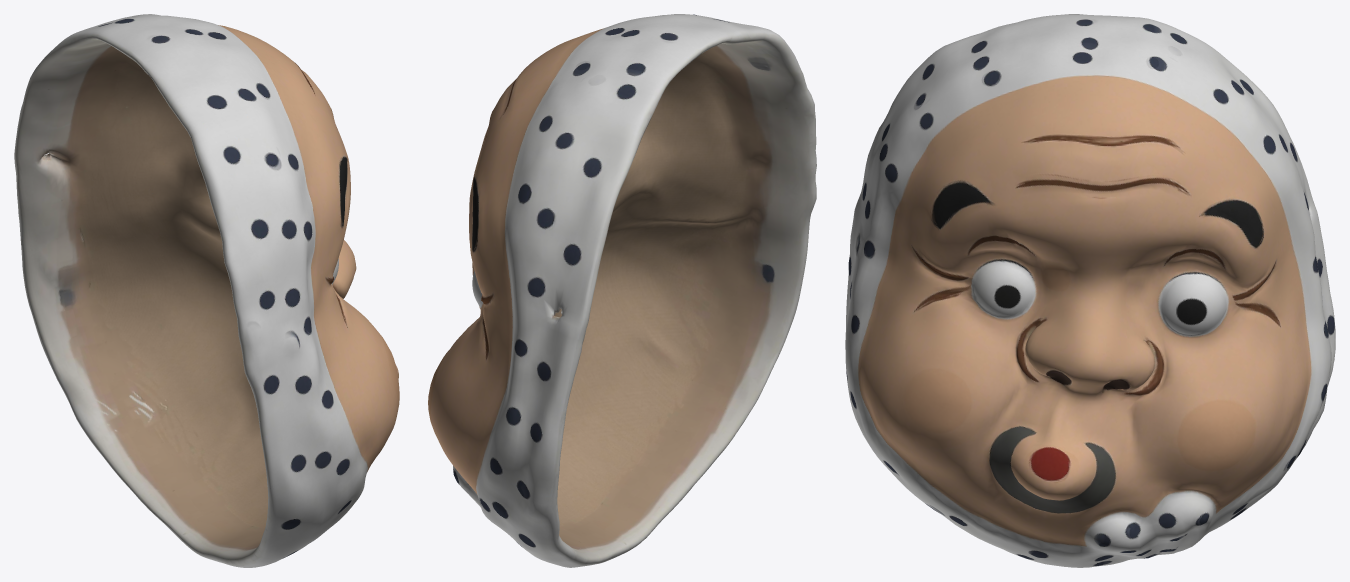
Rendered from Hyottoko.fbx.
3 renders of one model, left to right at view 1: azimuth 30°, elevation 25°; view 2: azimuth 150°, elevation 25°; view 3: azimuth 270°, elevation 25°, orthographic. The views are drawn at different scales.
Visible parts, largest first — view 1: Hyottoko; view 2: Hyottoko; view 3: Hyottoko.
Part boxes in pixels (left/top/right/bottom): Hyottoko: left=14, top=14, right=399, bottom=567; Hyottoko: left=428, top=14, right=816, bottom=567; Hyottoko: left=845, top=14, right=1335, bottom=567.
Size of the model in its own units: 51.32 by 99.76 by 86.65.
Materials: 1 (1 with a texture image).
